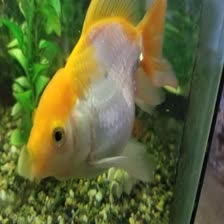Cuezo: (9, 2, 187, 183)
